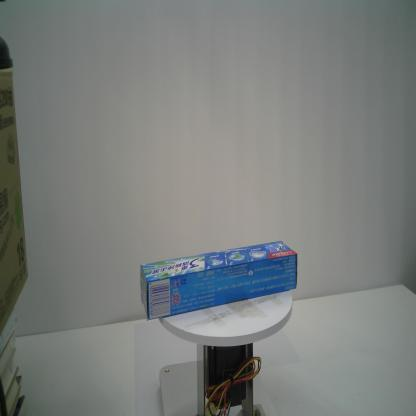Personal Hygiene: (140, 238, 298, 322)
